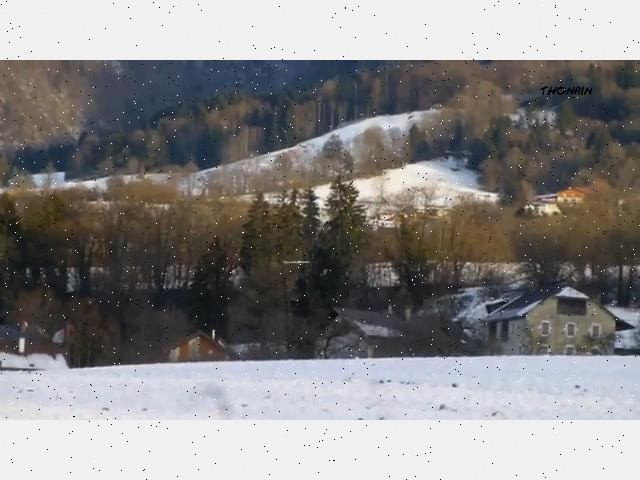Anti-Drone: (270, 253, 322, 273)
